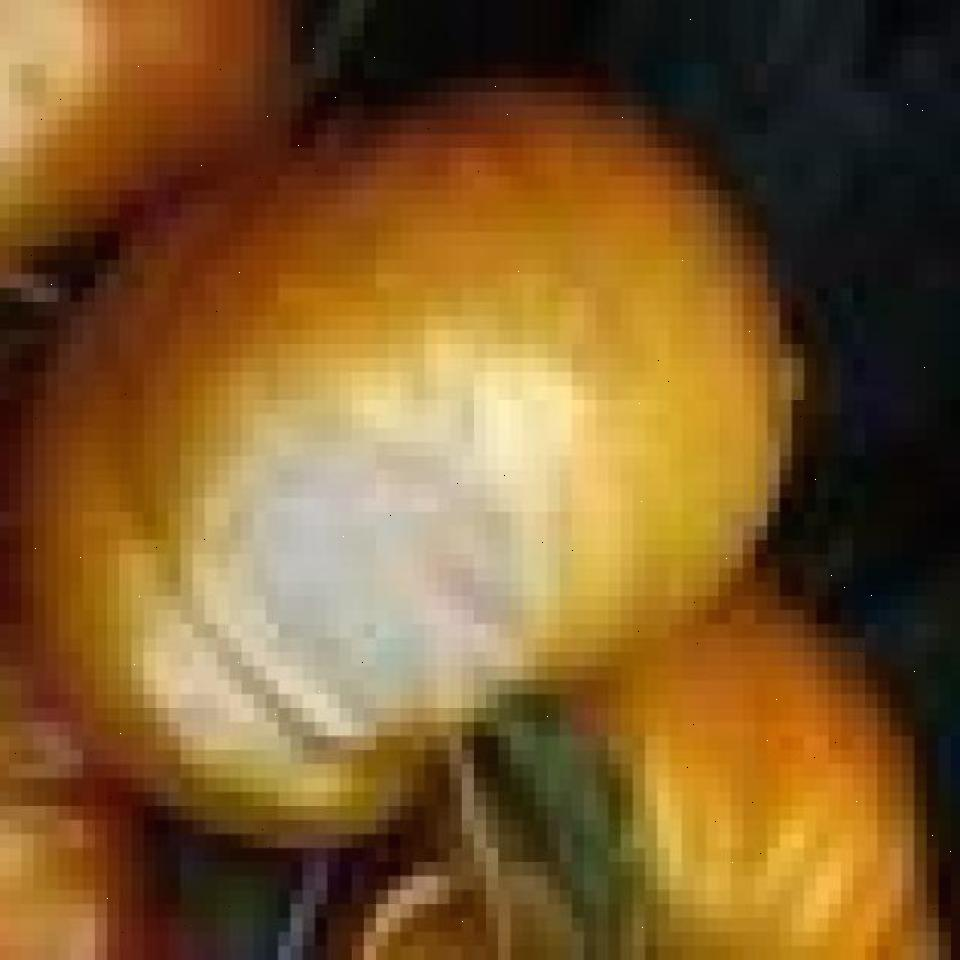Sunscald: (144, 337, 584, 771)
